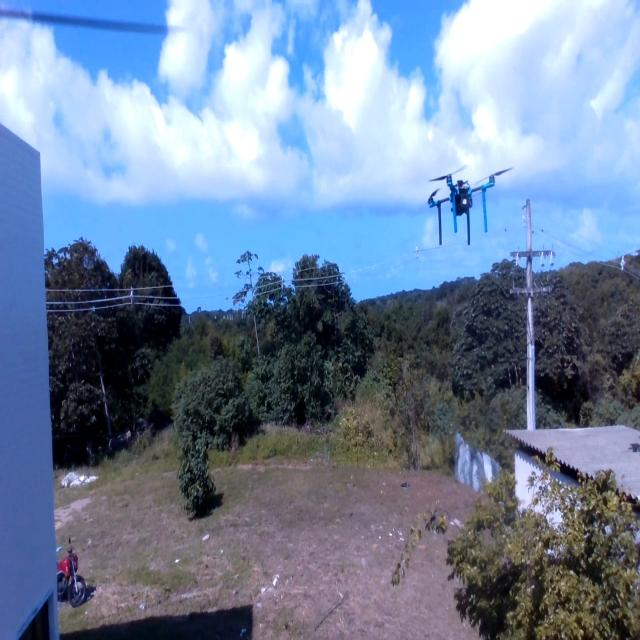-uav-: (417, 153, 519, 258)
